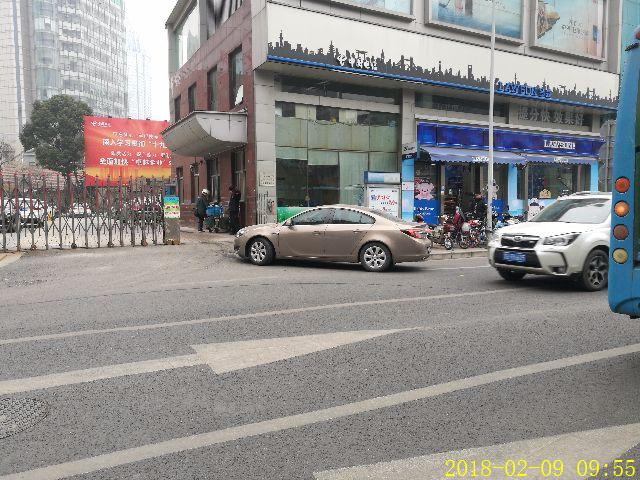multi_signs: (416, 120, 605, 164), (495, 80, 552, 99)
